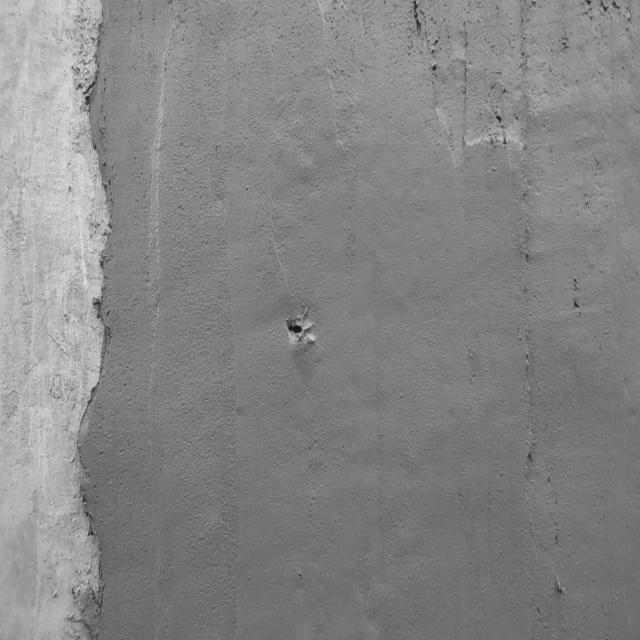trowels marks: (517, 9, 541, 553), (458, 12, 472, 165)
